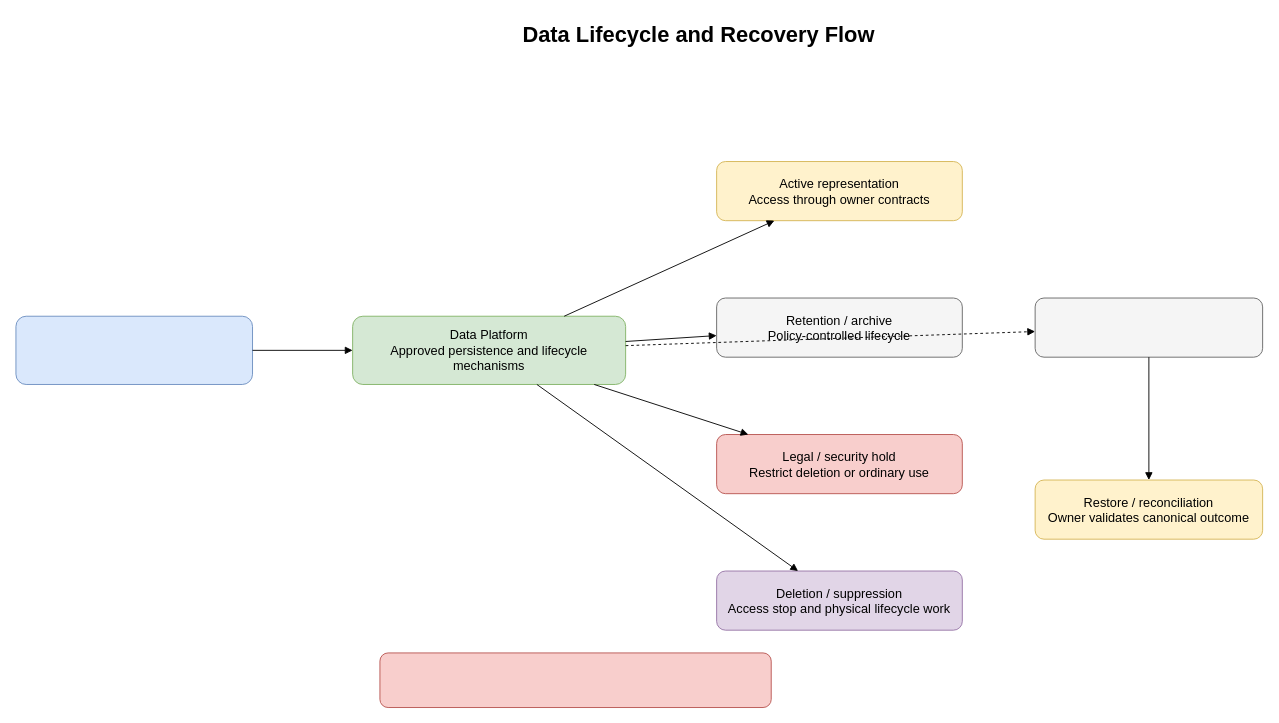
Some shapes in this 1279 by 723 pixel diagram are drawn without their labels. The shapes that lost their labels are listed below. From the top down, each one's centre as x and y in pixels, then its label:
At point 1148,327: "Backup / recovery artifact Data-owned protection mechanism".
At point 134,349: "Owning domain Logical record and lifecycle intent".
At point 575,680: "Security + Operations Authorization • incident • evidence".
